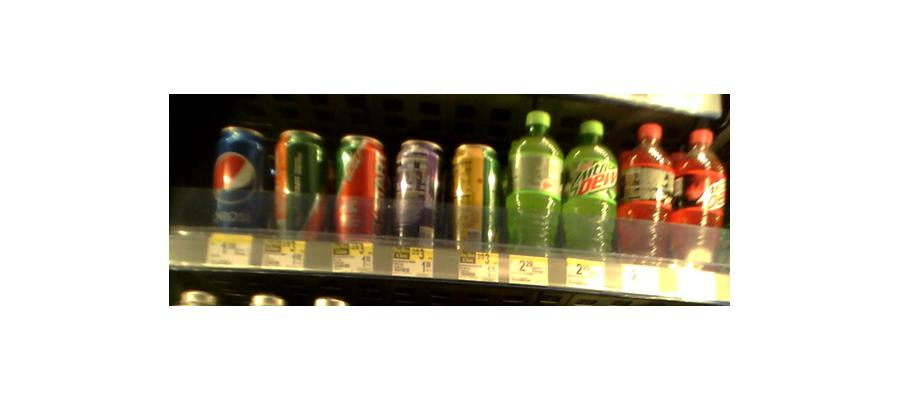bottle: (502, 110, 565, 257), (619, 119, 672, 259), (563, 122, 618, 255), (447, 138, 501, 254), (272, 128, 329, 237), (679, 122, 721, 265), (210, 120, 264, 231), (390, 137, 443, 248), (334, 133, 386, 240)
